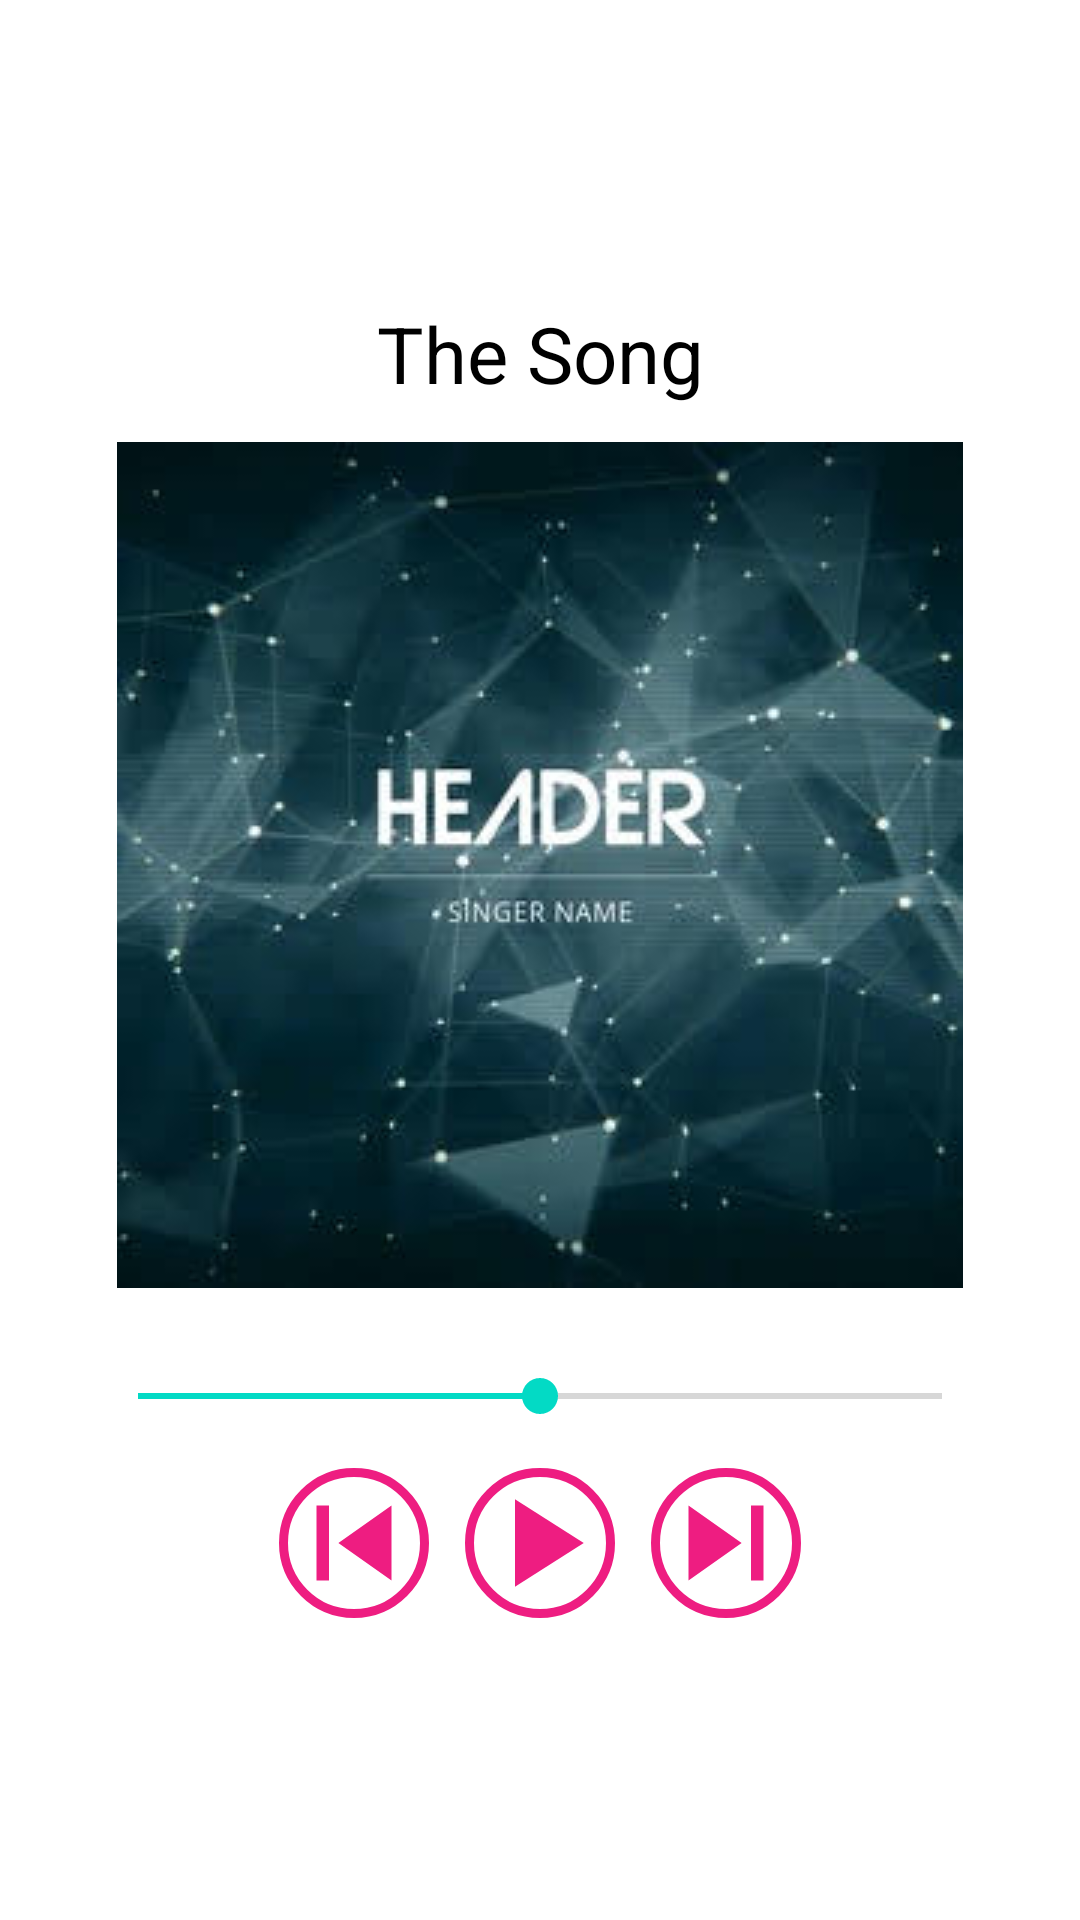

Named icons in this screenshot (1080 × 1920) and their bounding boxes, region(x1, y1, x2, y2):
next: region(651, 1468, 801, 1618)
play arrow: region(465, 1468, 615, 1618)
skip previous: region(279, 1468, 429, 1618)
